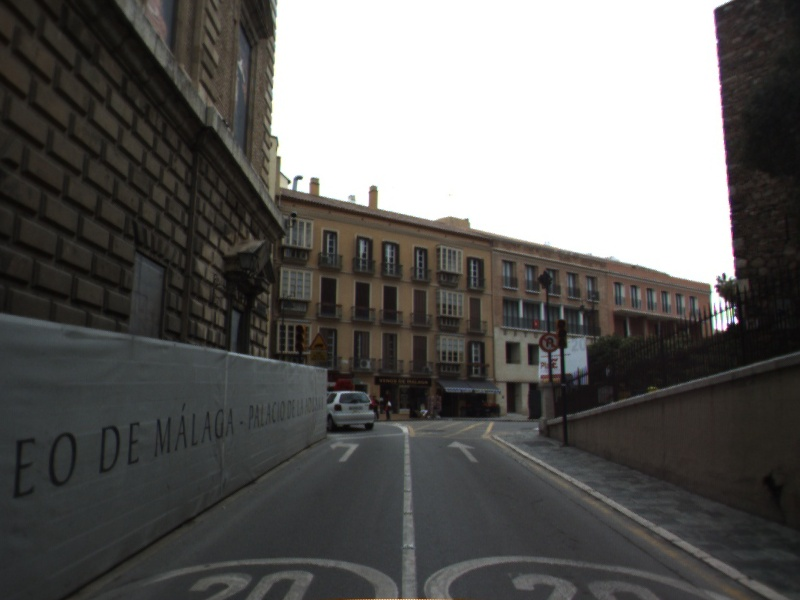LEFT: (328, 439, 361, 464)
STRAIGHT: (445, 438, 481, 464)
